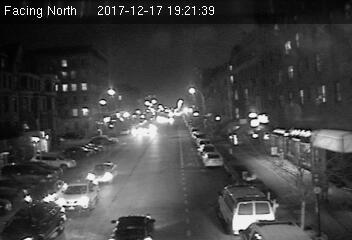car: (57, 182, 102, 213), (86, 162, 117, 185), (203, 152, 223, 166)
police: (215, 181, 277, 233)
